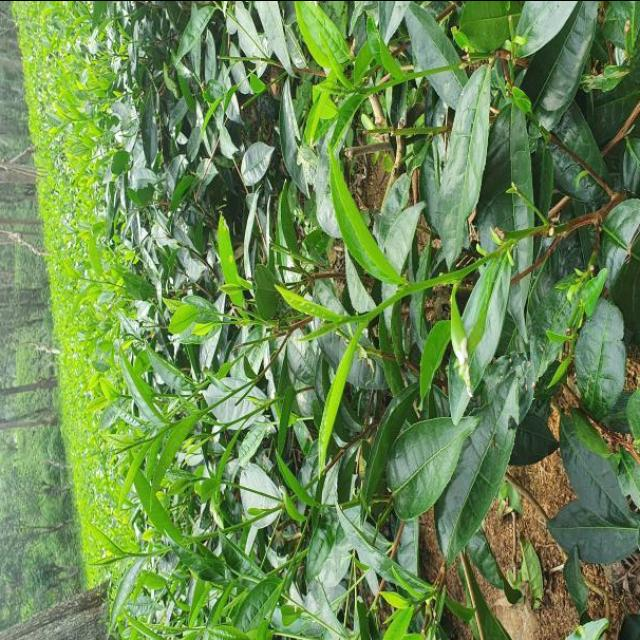Stem: (346, 314, 355, 321)
